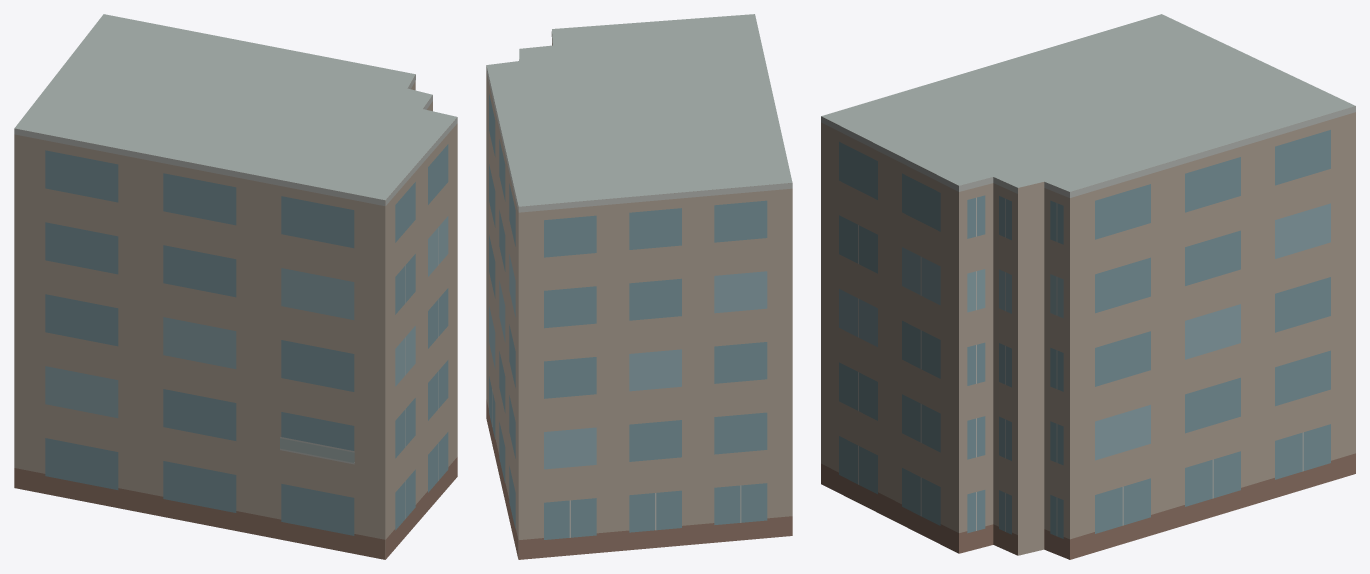
The model's file is survey-upis-32971405.glb.
3 views of the same model, side by side, from view 1: azimuth 30°, elevation 25°; view 2: azimuth 150°, elevation 25°; view 3: azimuth 270°, elevation 25° (orthographic). The views are drawn at different scales.
Visible parts, largest first — view 1: survey-upis-32971405.tmp; view 2: survey-upis-32971405.tmp; view 3: survey-upis-32971405.tmp.
Boxes of the visible parts, x1,y1,x2,y2 form: survey-upis-32971405.tmp: (14, 14, 457, 559); survey-upis-32971405.tmp: (486, 14, 792, 559); survey-upis-32971405.tmp: (821, 14, 1355, 559).
Size of the model in its own units: 15.16 by 14.6 by 19.24.
